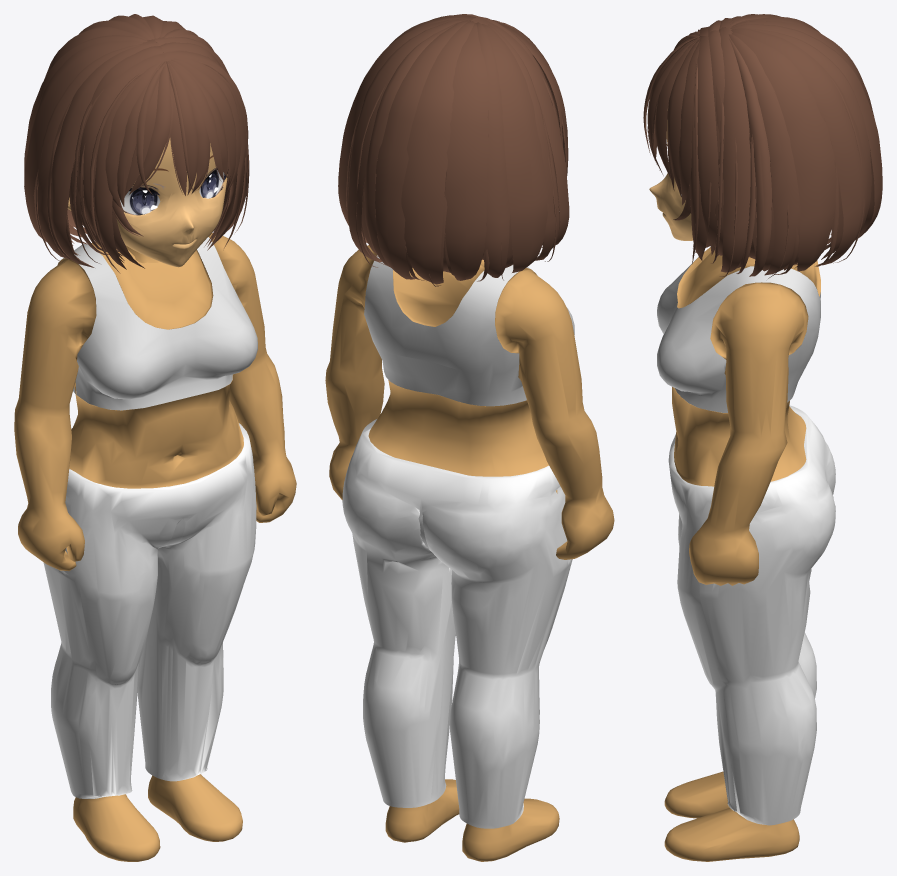
Rendered from Mii female Stage 3.glb.
3 views of the same model, side by side, from view 1: azimuth 30°, elevation 25°; view 2: azimuth 150°, elevation 25°; view 3: azimuth 270°, elevation 25° (orthographic). The views are drawn at different scales.
Parts seen in each view (by area): view 1: Hair.002; view 2: Hair.002; view 3: Hair.002.
Boxes of the visible parts, left/top/right/bottom form: Hair.002: left=14, top=14, right=296, bottom=861; Hair.002: left=325, top=14, right=614, bottom=861; Hair.002: left=643, top=14, right=882, bottom=861.
Size of the model in its own units: 0.661 by 1.91 by 0.5122.
14 materials, 7 textured.
